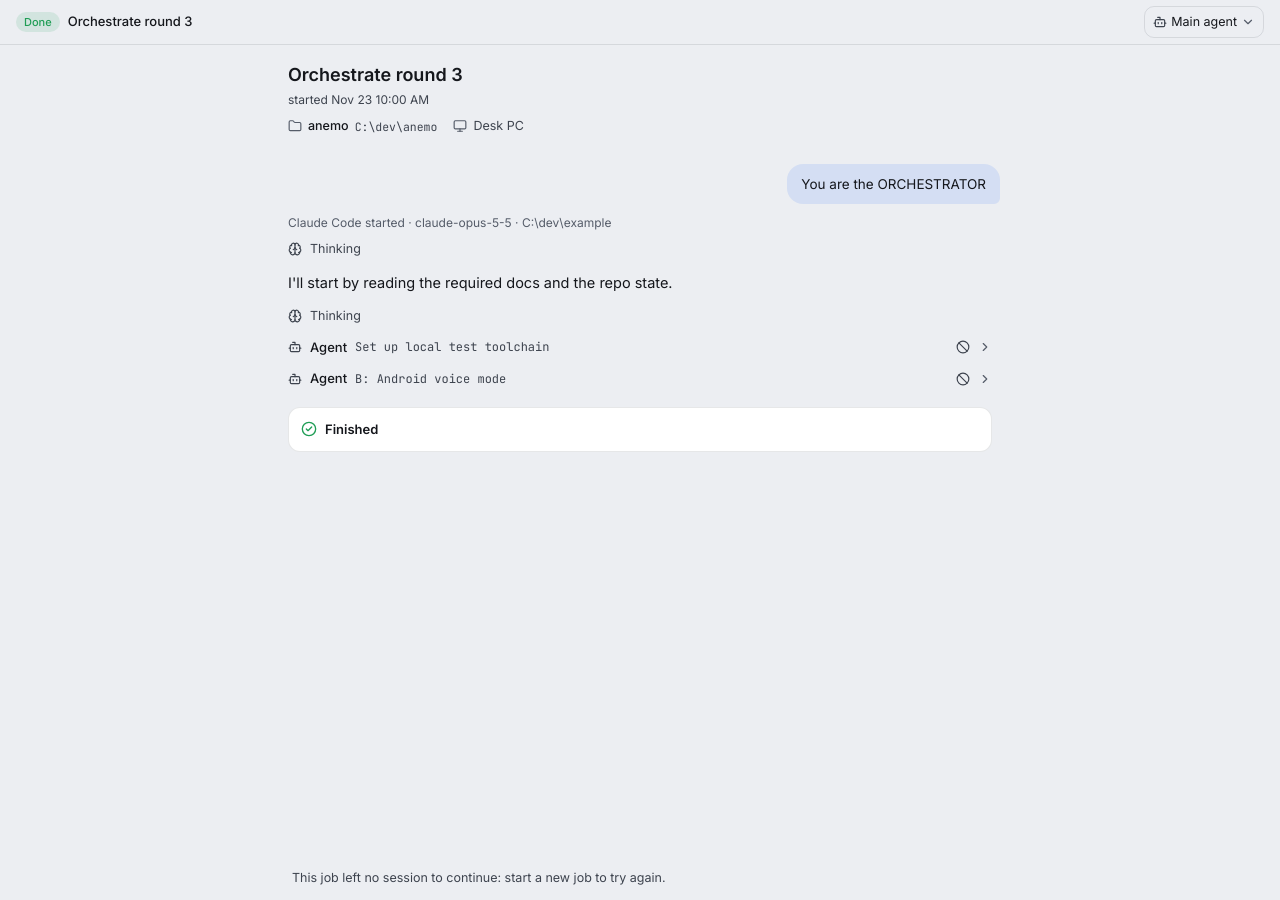
it: a job with sub-agents › on narrower screens, switches agents from the top bar
Expected: the list "Agents" is not shown
Click the button with aria-label "Agent: Main agent" at x=1204, y=22, box [1144,6,1264,38]
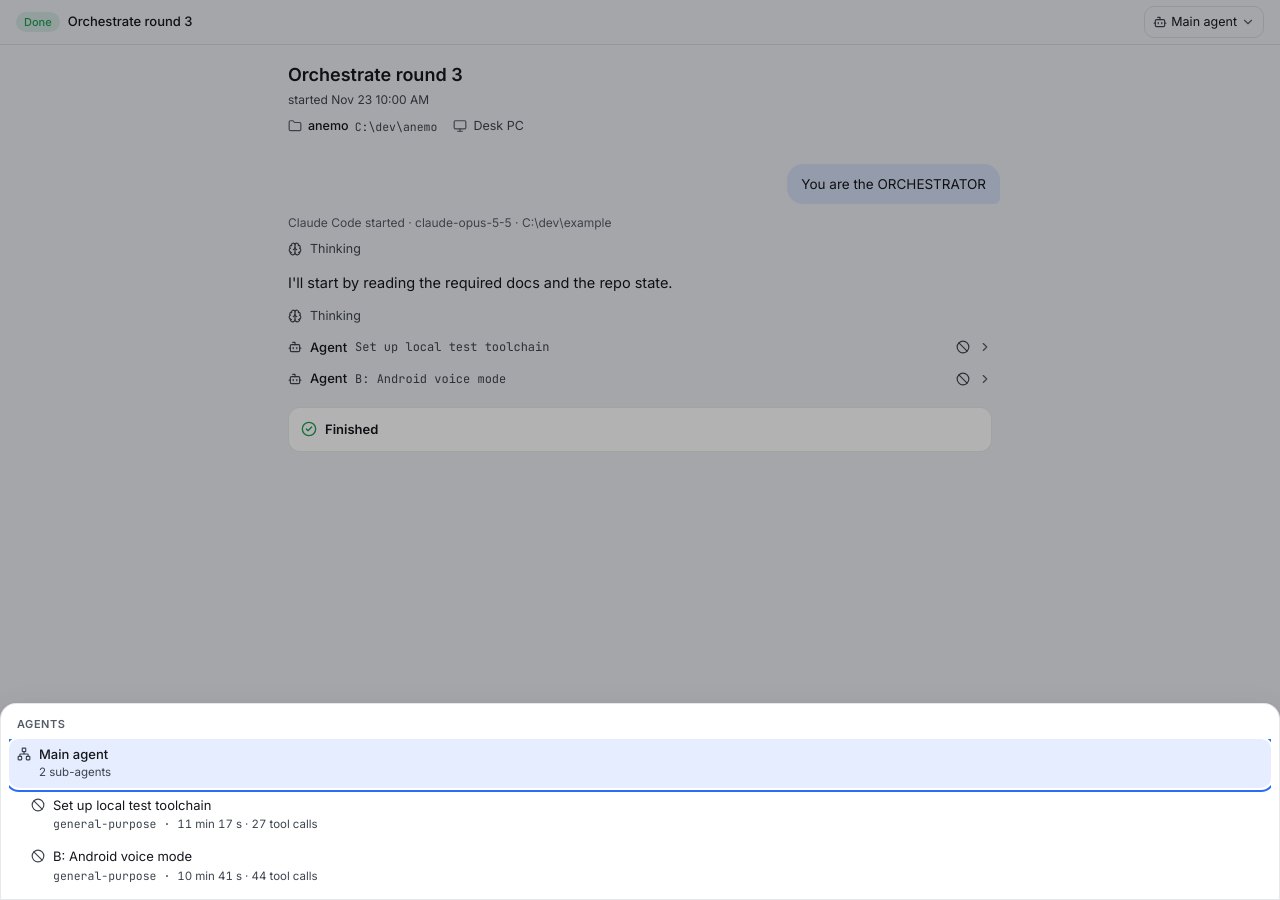
Click the text "Set up local test toolchain" at x=132, y=804, box [53,796,211,812]
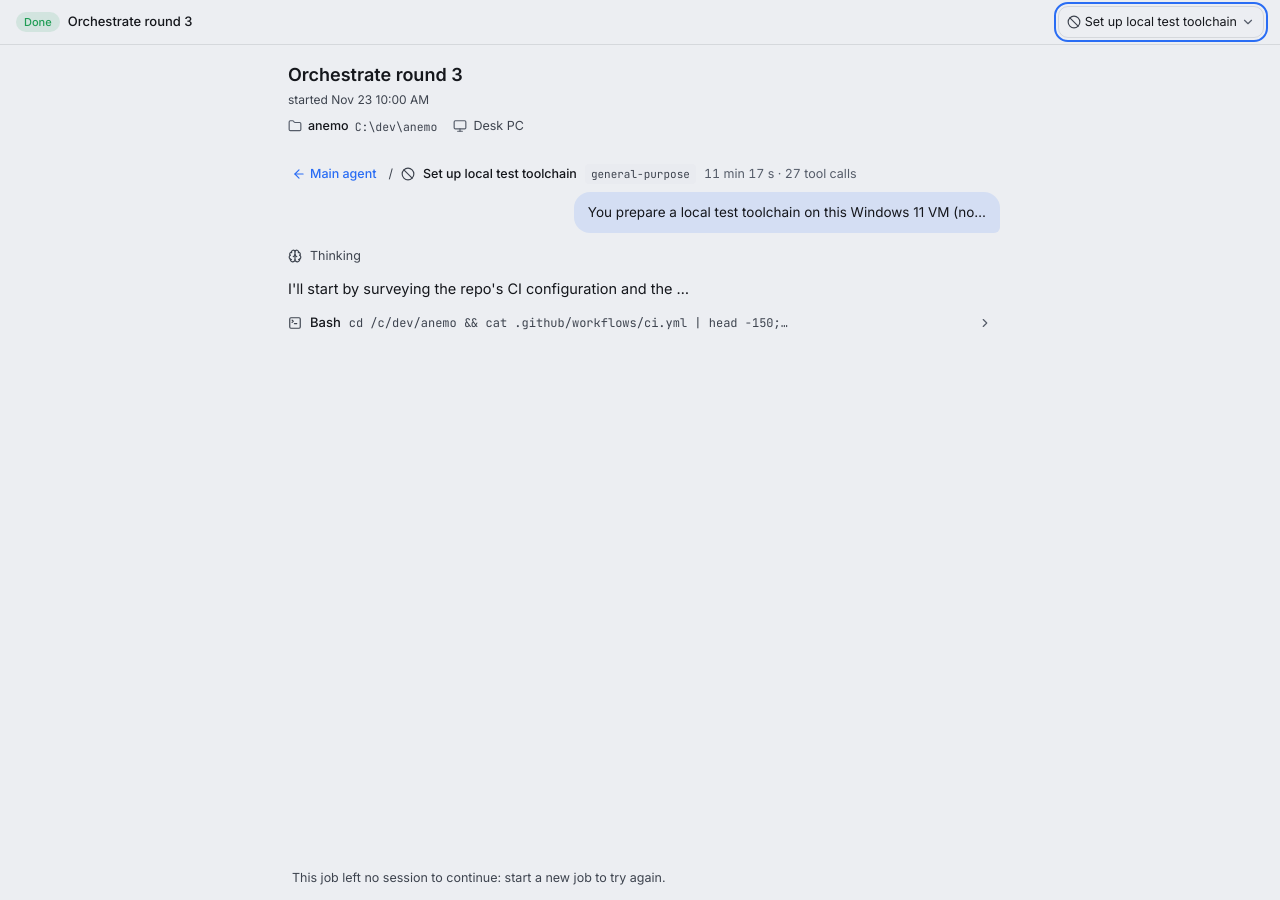
Now the button with aria-label "Agent: Set up local test toolchain" is shown, box [1058,6,1264,38]
